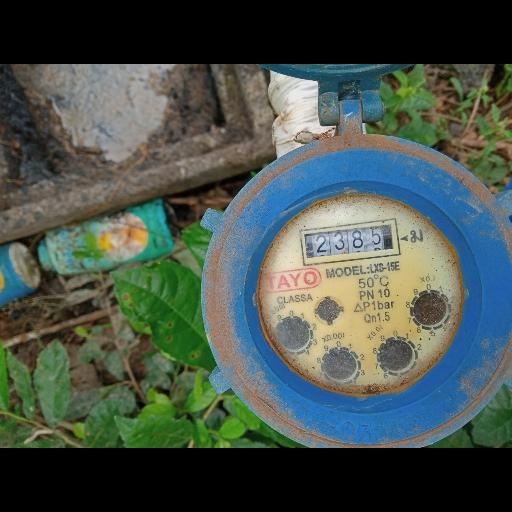2: (311, 231, 331, 257)
3: (329, 229, 349, 255)
5: (364, 225, 384, 252)
8: (347, 227, 367, 254)
border_water_meter_number: (299, 217, 401, 267)
